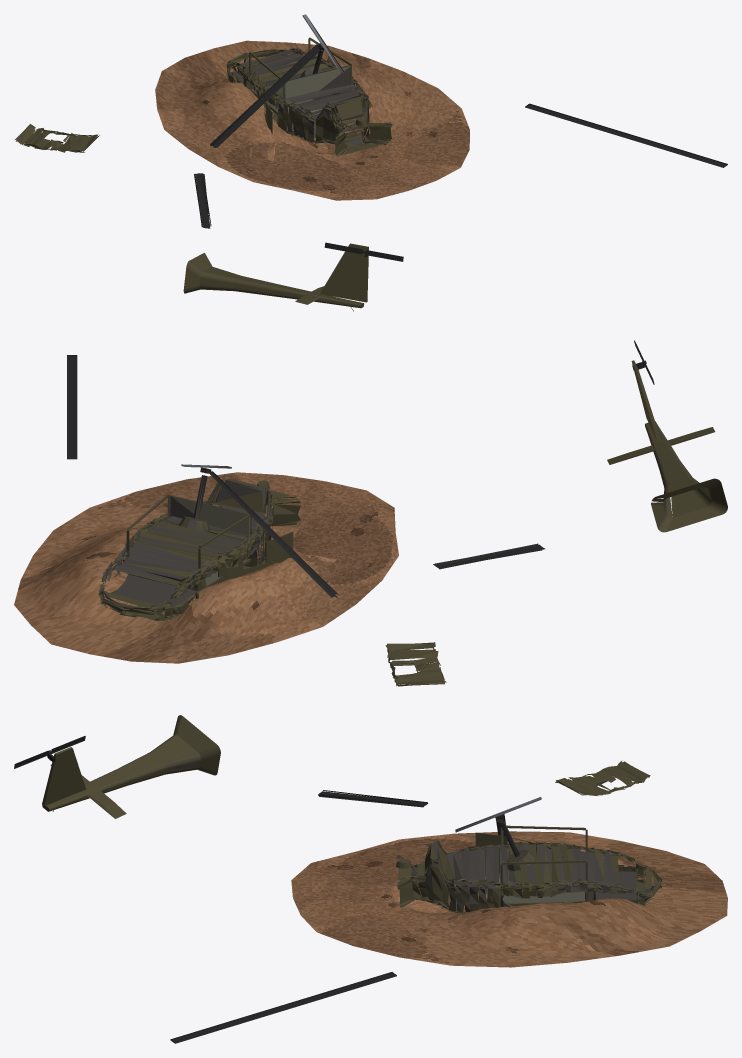
Rendered from huey_crashed.glb.
The picture shows the model from 3 angles, top to bottom: view 1: azimuth 30°, elevation 25°; view 2: azimuth 150°, elevation 25°; view 3: azimuth 270°, elevation 25°; orthographic projection. The views are drawn at different scales.
Visible parts, largest first — view 1: wreck_hard_mound, wreck_hard_fuselage, wreck_soft_boom, wreck_soft_boom_tail_fin, wreck_hard_transmission, wreck_soft_door_thrown, wreck_soft_rotor_thrown, wreck_soft_rotor_att, wreck_soft_rotor_frag; view 2: wreck_hard_mound, wreck_hard_fuselage, wreck_soft_boom, wreck_soft_door_thrown, wreck_hard_transmission, wreck_hard_floor_fwd, wreck_soft_door_r, wreck_soft_rotor_thrown, wreck_soft_rotor_att, wreck_soft_rotor_frag, wreck_soft_boom_elevator; view 3: wreck_hard_mound, wreck_hard_fuselage, wreck_soft_boom, wreck_soft_door_thrown, wreck_soft_boom_tail_fin, wreck_soft_rotor_thrown, wreck_soft_rotor_frag, wreck_hard_floor_fwd, wreck_hard_floor, wreck_soft_door_frame_l.
Part boxes in pixels (x1=…): wreck_hard_mound: x1=155, y1=40, x2=469, y2=200; wreck_hard_fuselage: x1=226, y1=48, x2=392, y2=156; wreck_soft_boom: x1=183, y1=253, x2=363, y2=308; wreck_soft_boom_tail_fin: x1=320, y1=243, x2=368, y2=302; wreck_hard_transmission: x1=284, y1=65, x2=350, y2=113; wreck_soft_door_thrown: x1=15, y1=124, x2=99, y2=152; wreck_soft_rotor_thrown: x1=525, y1=103, x2=727, y2=167; wreck_soft_rotor_att: x1=210, y1=44, x2=320, y2=147; wreck_soft_rotor_frag: x1=194, y1=173, x2=211, y2=228; wreck_hard_mound: x1=14, y1=472, x2=398, y2=663; wreck_hard_fuselage: x1=98, y1=478, x2=300, y2=621; wreck_soft_boom: x1=645, y1=421, x2=727, y2=532; wreck_soft_door_thrown: x1=385, y1=642, x2=446, y2=686; wreck_hard_transmission: x1=168, y1=495, x2=250, y2=559; wreck_hard_floor_fwd: x1=111, y1=574, x2=197, y2=609; wreck_soft_door_r: x1=218, y1=531, x2=293, y2=583; wreck_soft_rotor_thrown: x1=67, y1=355, x2=77, y2=459; wreck_soft_rotor_att: x1=208, y1=471, x2=338, y2=597; wreck_soft_rotor_frag: x1=433, y1=543, x2=544, y2=569; wreck_soft_boom_elevator: x1=607, y1=427, x2=715, y2=464; wreck_hard_mound: x1=291, y1=831, x2=727, y2=967; wreck_hard_fuselage: x1=396, y1=840, x2=662, y2=913; wreck_soft_boom: x1=42, y1=715, x2=220, y2=811; wreck_soft_door_thrown: x1=555, y1=760, x2=650, y2=795; wreck_soft_boom_tail_fin: x1=42, y1=747, x2=86, y2=806; wreck_soft_rotor_thrown: x1=170, y1=972, x2=396, y2=1043; wreck_soft_rotor_frag: x1=318, y1=790, x2=428, y2=807; wreck_hard_floor_fwd: x1=588, y1=871, x2=636, y2=900; wreck_hard_floor: x1=503, y1=891, x2=585, y2=903; wreck_soft_door_frame_l: x1=500, y1=860, x2=587, y2=906.
Size of what is drawn, in the model's own units: 19.62 by 4.16 by 19.95.
Materials: 7 (1 with a texture image).
